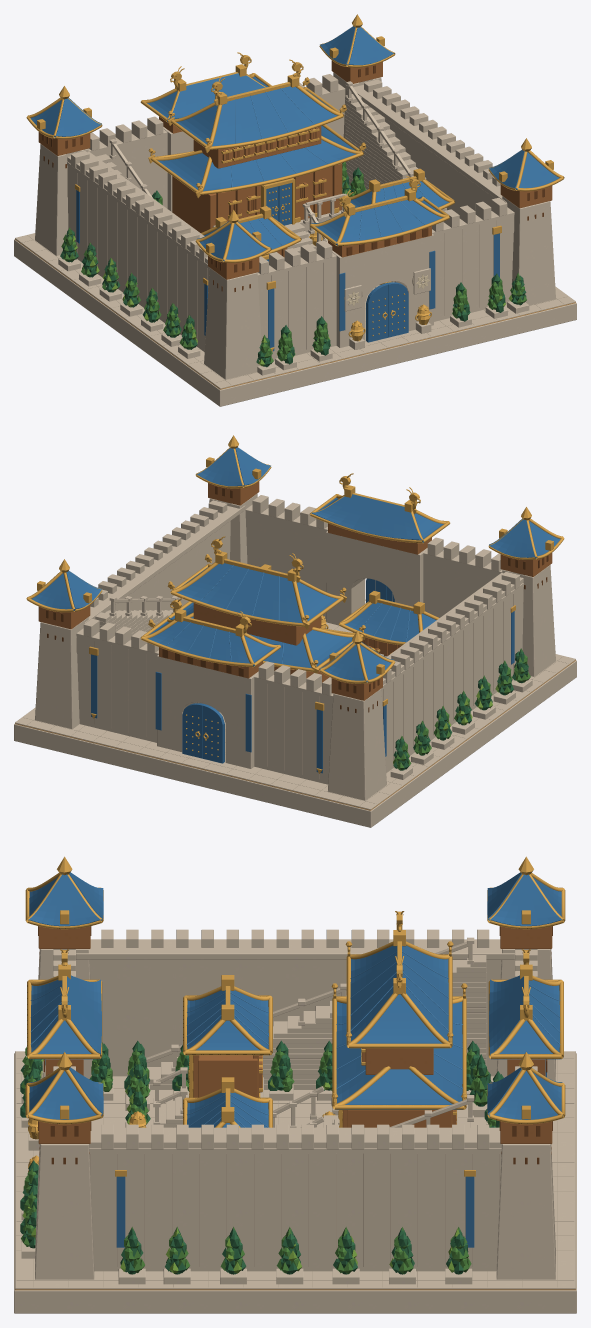
Rendered from city-4.glb.
3 views of the same model, one above another, from view 1: azimuth 30°, elevation 25°; view 2: azimuth 150°, elevation 25°; view 3: azimuth 270°, elevation 25° (orthographic). The views are drawn at different scales.
Visible parts, largest first — view 1: SM_CT4_V4_Batch_4.003, SM_CT4_V4_Batch_0.003, SM_CT4_V4_Batch_2.003, SM_CT4_V4_Batch_12.003, SM_CT4_V4_Batch_66.003, SM_CT4_V4_Batch_49.003, SM_CT4_V4_Batch_30.003, SM_CT4_V4_Batch_60.003, SM_CT4_V4_Batch_24.003, SM_CT4_V4_Batch_100.003, SM_CT4_V4_Batch_6.003, SM_CT4_V4_Batch_35.003 (+45 smaller); view 2: SM_CT4_V4_Batch_4.003, SM_CT4_V4_Batch_0.003, SM_CT4_V4_Batch_2.003, SM_CT4_V4_Batch_39.003, SM_CT4_V4_Batch_30.003, SM_CT4_V4_Batch_6.003, SM_CT4_V4_Batch_66.003, SM_CT4_V4_Batch_18.003, SM_CT4_V4_Batch_35.003, SM_CT4_V4_Batch_12.003, SM_CT4_V4_Batch_44.003, SM_CT4_V4_Batch_81.003 (+38 smaller); view 3: SM_CT4_V4_Batch_4.003, SM_CT4_V4_Batch_2.003, SM_CT4_V4_Batch_0.003, SM_CT4_V4_Batch_66.003, SM_CT4_V4_Batch_18.003, SM_CT4_V4_Batch_24.003, SM_CT4_V4_Batch_100.003, SM_CT4_V4_Batch_60.003, SM_CT4_V4_Batch_109.003, SM_CT4_V4_Batch_35.003, SM_CT4_V4_Batch_44.003, SM_CT4_V4_Batch_101.003 (+38 smaller).
Boxes of the visible parts, x1,y1,x2,y2 form: SM_CT4_V4_Batch_4.003: [66, 74, 514, 360]; SM_CT4_V4_Batch_0.003: [14, 239, 576, 406]; SM_CT4_V4_Batch_2.003: [15, 232, 575, 388]; SM_CT4_V4_Batch_12.003: [204, 268, 261, 379]; SM_CT4_V4_Batch_66.003: [176, 86, 337, 146]; SM_CT4_V4_Batch_49.003: [172, 126, 342, 232]; SM_CT4_V4_Batch_30.003: [332, 233, 433, 347]; SM_CT4_V4_Batch_60.003: [157, 125, 355, 191]; SM_CT4_V4_Batch_24.003: [502, 196, 555, 305]; SM_CT4_V4_Batch_100.003: [96, 94, 446, 210]; SM_CT4_V4_Batch_6.003: [35, 144, 88, 255]; SM_CT4_V4_Batch_35.003: [311, 196, 442, 246]; SM_CT4_V4_Batch_4.003: [76, 495, 524, 784]; SM_CT4_V4_Batch_0.003: [14, 660, 576, 827]; SM_CT4_V4_Batch_2.003: [15, 619, 575, 809]; SM_CT4_V4_Batch_39.003: [157, 654, 258, 768]; SM_CT4_V4_Batch_30.003: [326, 531, 427, 625]; SM_CT4_V4_Batch_6.003: [327, 689, 386, 800]; SM_CT4_V4_Batch_66.003: [177, 563, 337, 623]; SM_CT4_V4_Batch_18.003: [35, 617, 88, 729]; SM_CT4_V4_Batch_35.003: [311, 494, 443, 542]; SM_CT4_V4_Batch_12.003: [502, 565, 555, 676]; SM_CT4_V4_Batch_44.003: [148, 617, 279, 667]; SM_CT4_V4_Batch_81.003: [345, 602, 436, 642]; SM_CT4_V4_Batch_4.003: [53, 929, 537, 1271]; SM_CT4_V4_Batch_2.003: [15, 1051, 575, 1289]; SM_CT4_V4_Batch_0.003: [14, 1053, 576, 1313]; SM_CT4_V4_Batch_66.003: [350, 945, 448, 1043]; SM_CT4_V4_Batch_18.003: [496, 1144, 555, 1279]; SM_CT4_V4_Batch_24.003: [35, 1144, 94, 1279]; SM_CT4_V4_Batch_100.003: [147, 955, 486, 1127]; SM_CT4_V4_Batch_60.003: [336, 1001, 462, 1109]; SM_CT4_V4_Batch_109.003: [20, 1040, 503, 1272]; SM_CT4_V4_Batch_35.003: [29, 975, 101, 1059]; SM_CT4_V4_Batch_44.003: [489, 975, 561, 1059]; SM_CT4_V4_Batch_101.003: [21, 1073, 488, 1284].
Bounding box in the file's own units: 10 × 5.12 × 10.
Materials: 12 (5 with a texture image).
